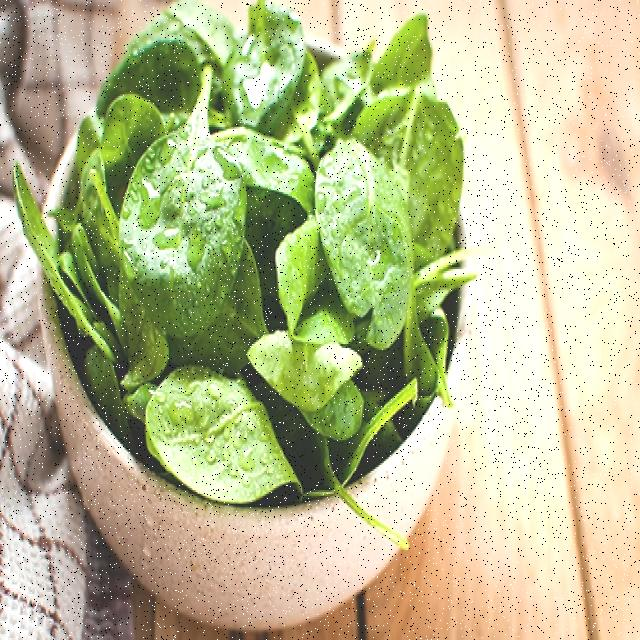Indian Spinach: (134, 68, 430, 497)
